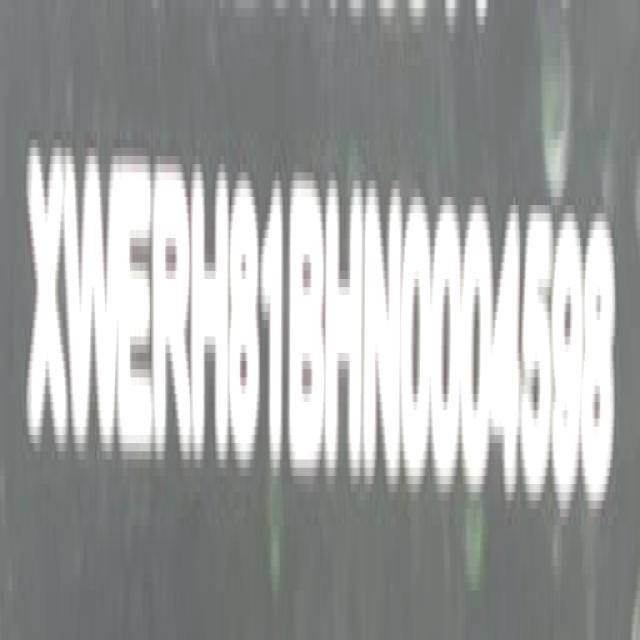0: (401, 184, 435, 490), (458, 192, 490, 499), (430, 192, 462, 493)
1: (262, 168, 290, 481)
4: (490, 197, 521, 498)
5: (521, 199, 554, 507)
8: (584, 214, 618, 509), (228, 163, 260, 474)
9: (548, 208, 583, 510)
B: (292, 169, 329, 484)
E: (116, 155, 159, 468)
H: (326, 170, 366, 487), (192, 162, 232, 472)
M: (364, 174, 404, 489)
R: (151, 149, 193, 492)
W: (65, 146, 121, 466)
X: (26, 136, 72, 461)
